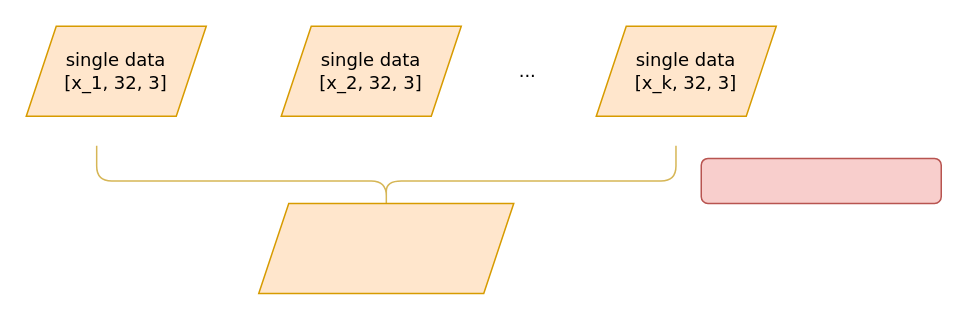
This 968x321 diagram has some shape labels left out. The box of each missing label's shape, as (x1, y1, x2, y2) in pixels:
data_3d_std [n, x, 32, 3(x, y, z)]: (257, 202, 514, 293)
x = min(x_1, ..., x_n): (700, 157, 941, 203)
